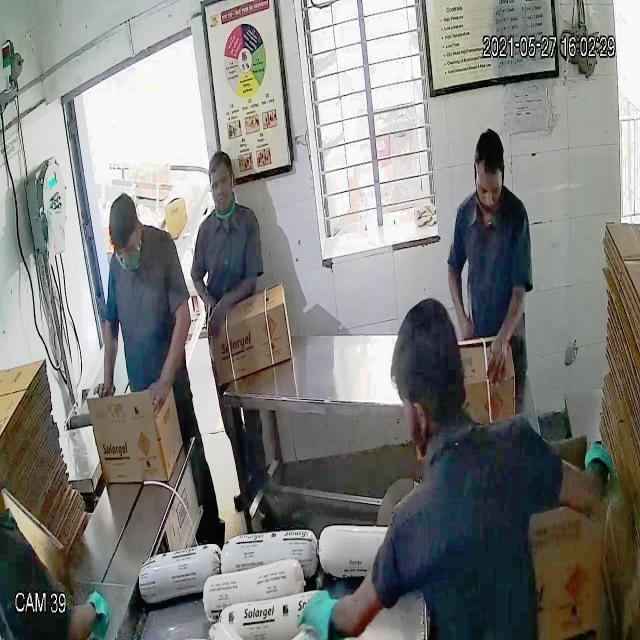hairnet: (211, 183, 241, 223), (112, 243, 148, 276)
